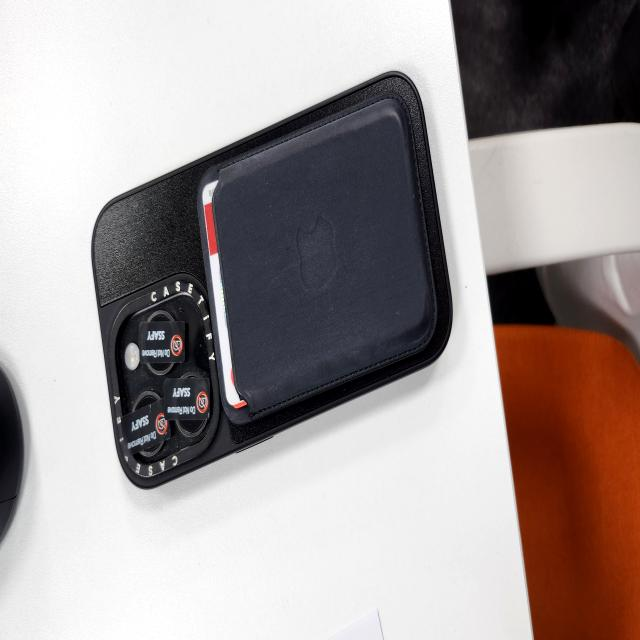phone: (92, 70, 452, 483)
sticker: (122, 399, 170, 450), (163, 376, 212, 424), (139, 319, 186, 365)
